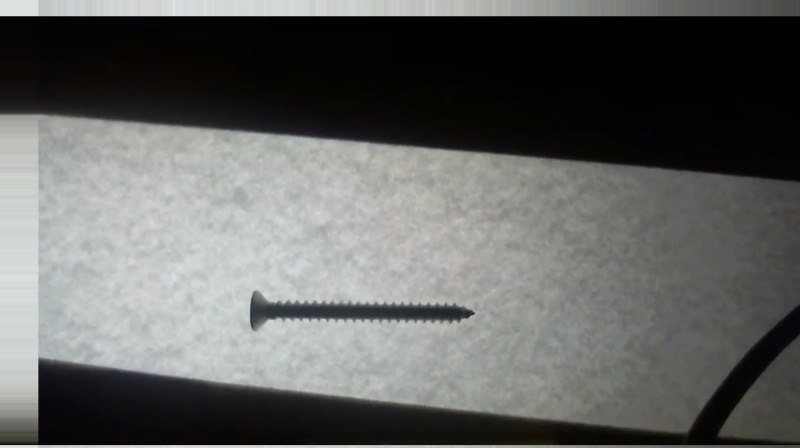S002: (245, 286, 478, 335)
